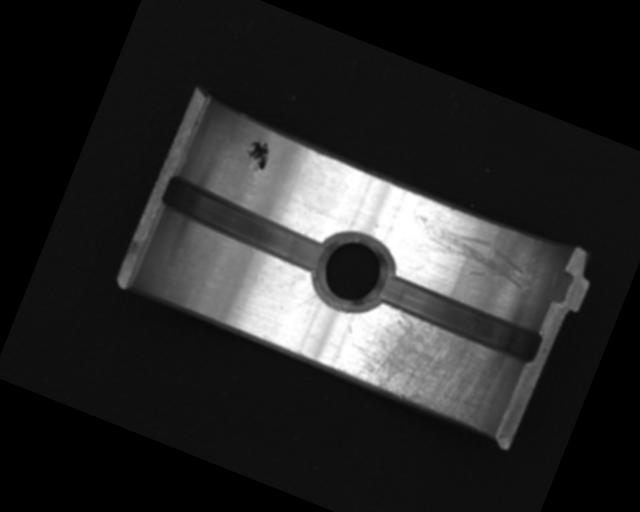blot: (239, 134, 275, 174)
gap: (152, 169, 335, 276), (374, 270, 546, 365)
hole: (304, 226, 401, 320)
nick: (403, 210, 536, 295), (284, 283, 320, 323)
scratch: (336, 296, 516, 433)
